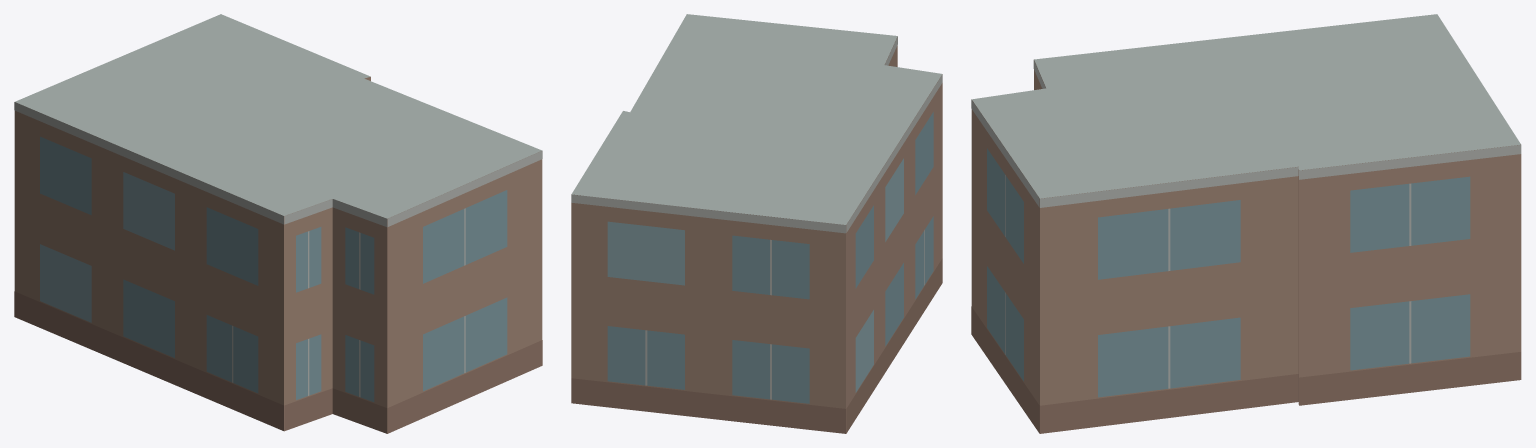
Rendered from survey-upis-32611977.glb.
3 renders of one model, left to right at view 1: azimuth 30°, elevation 25°; view 2: azimuth 150°, elevation 25°; view 3: azimuth 270°, elevation 25°, orthographic. The views are drawn at different scales.
Parts seen in each view (by area): view 1: survey-upis-32611977.tmp; view 2: survey-upis-32611977.tmp; view 3: survey-upis-32611977.tmp.
Part boxes in pixels (box(x1,y1,x2,y2)): survey-upis-32611977.tmp: box(14, 14, 542, 433); survey-upis-32611977.tmp: box(571, 14, 942, 433); survey-upis-32611977.tmp: box(971, 14, 1521, 433).
Size of the model in its own units: 10.28 by 6.1 by 12.93.
